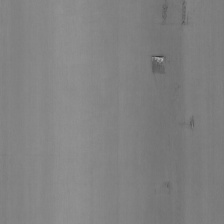rolled_pit: (150, 52, 167, 77), (179, 0, 190, 28), (159, 0, 169, 24), (186, 113, 197, 133)
